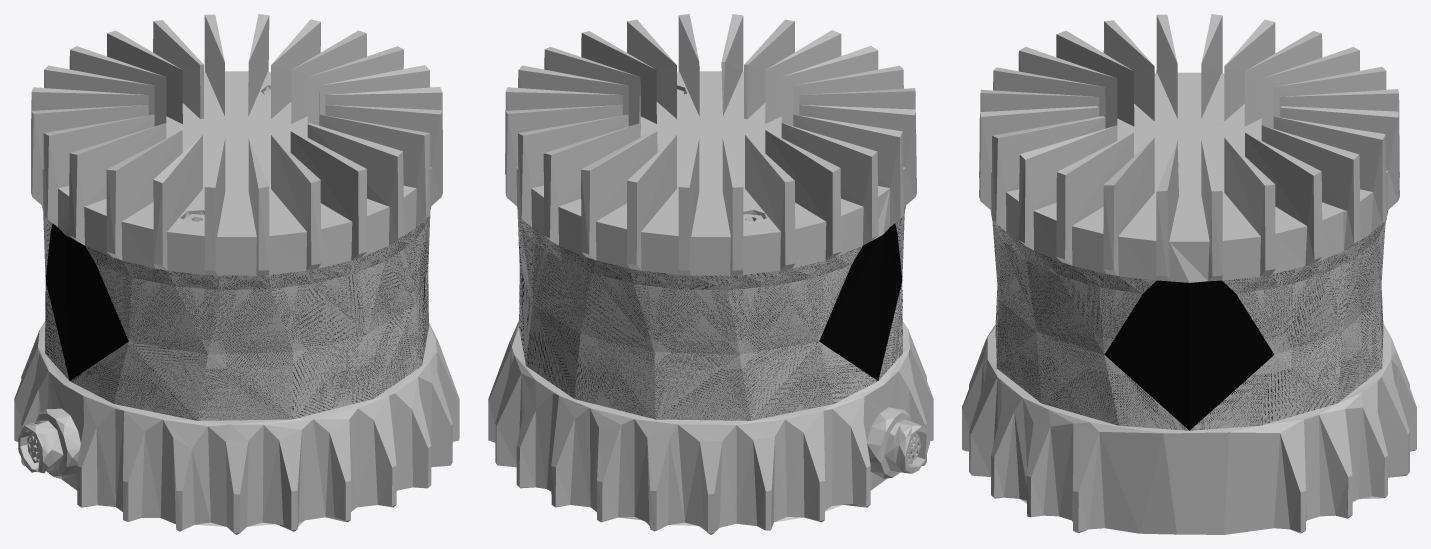
The model's file is ouster-os0.dae.
3 views of the same model, side by side, from view 1: azimuth 30°, elevation 25°; view 2: azimuth 150°, elevation 25°; view 3: azimuth 270°, elevation 25° (orthographic). The views are drawn at different scales.
Visible parts, largest first — view 1: node0; view 2: node0; view 3: node0.
Boxes of the visible parts, left/top/right/bottom form: node0: left=14, top=14, right=459, bottom=534; node0: left=488, top=14, right=933, bottom=534; node0: left=962, top=14, right=1416, bottom=534.
Size of the model in its own units: 0.0868 by 0.0869 by 0.0736.
Materials: 1 (1 with a texture image).
